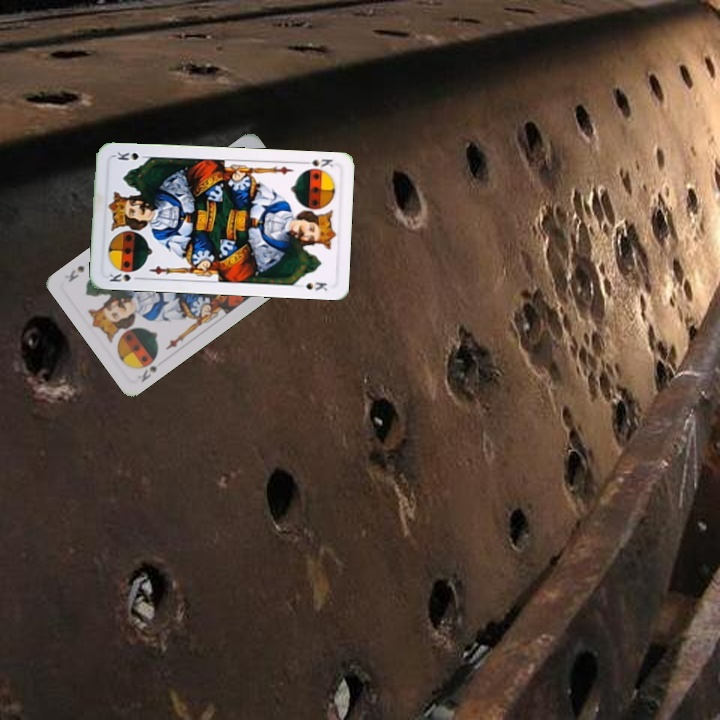SK: (134, 351, 161, 385), (298, 155, 335, 174), (105, 269, 144, 284)
